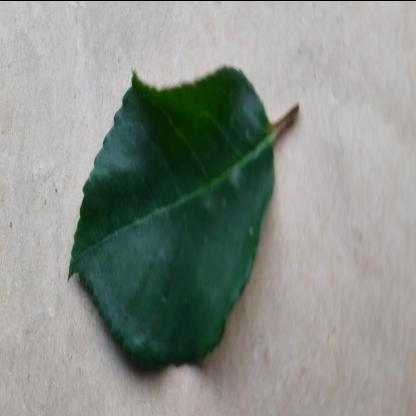normal: (69, 56, 273, 394)
